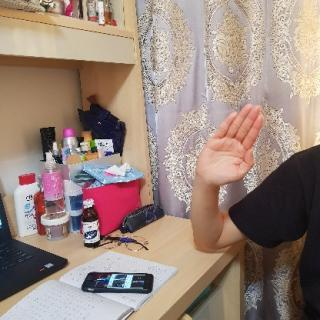SEEN: (190, 101, 269, 196)
